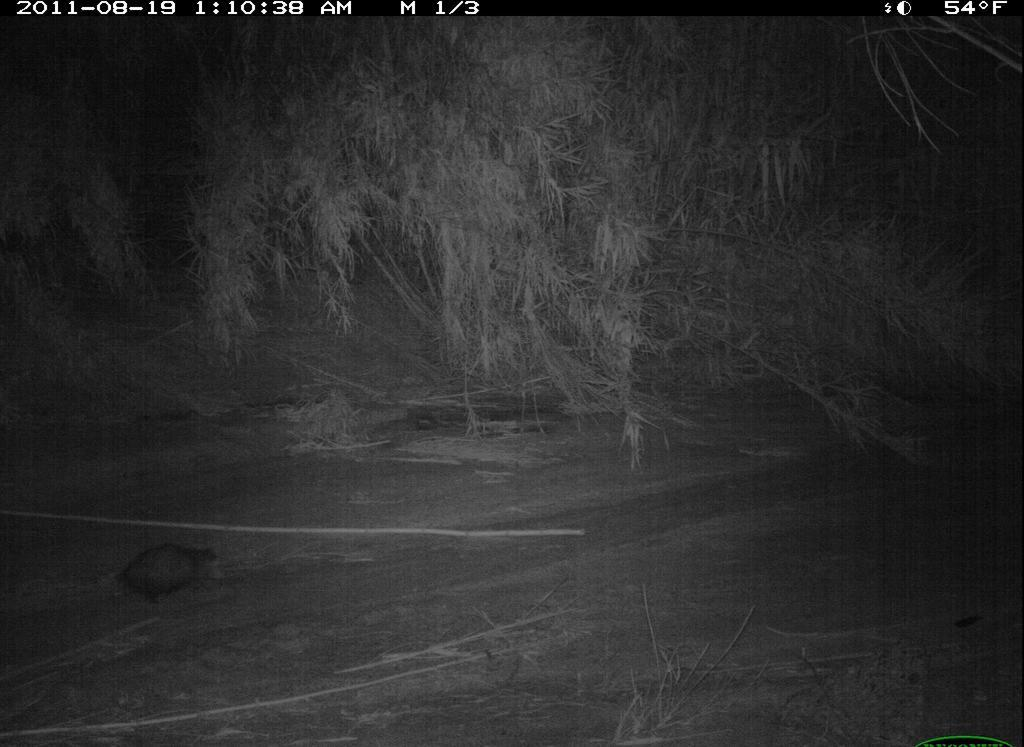opossum: (91, 533, 232, 617)
